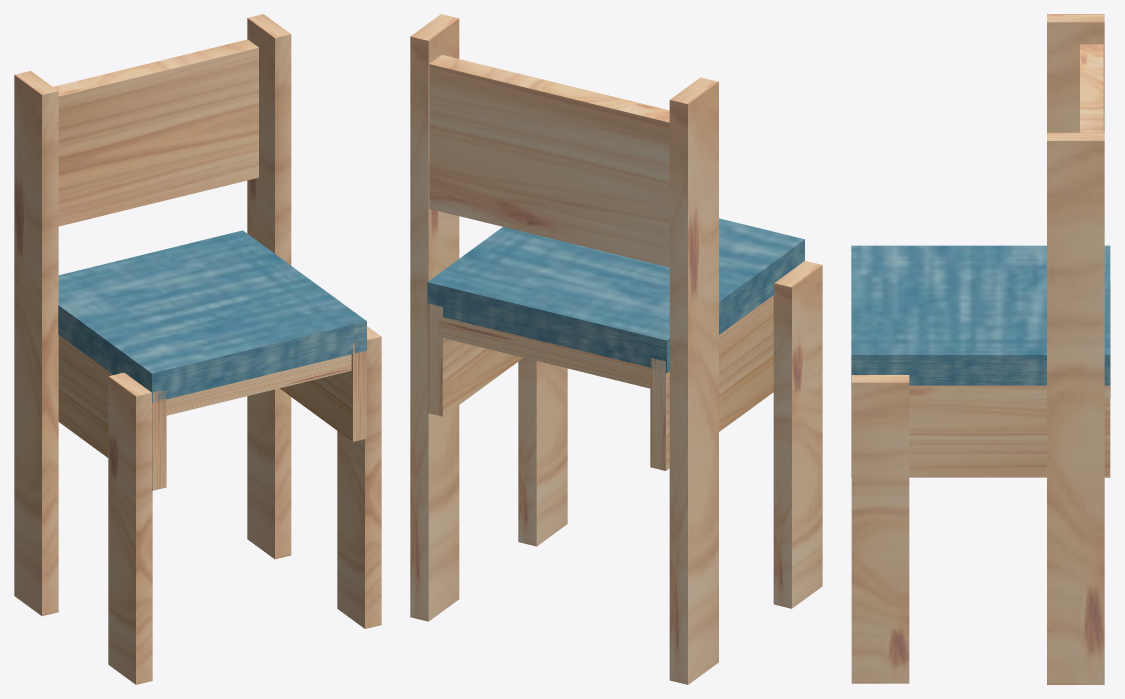
Rendered from chair.fbx.
The picture shows the model from 3 angles, left to right: view 1: azimuth 30°, elevation 25°; view 2: azimuth 150°, elevation 25°; view 3: azimuth 270°, elevation 25°; orthographic projection. The views are drawn at different scales.
Parts seen in each view (by area): view 1: pCube21; view 2: pCube21; view 3: pCube21.
Part boxes in pixels (box(x1,y1,x2,y2)): pCube21: box(14, 14, 381, 684); pCube21: box(410, 14, 822, 684); pCube21: box(851, 14, 1110, 684).
Size of the model in its own units: 3.68 by 7.35 by 3.17.
